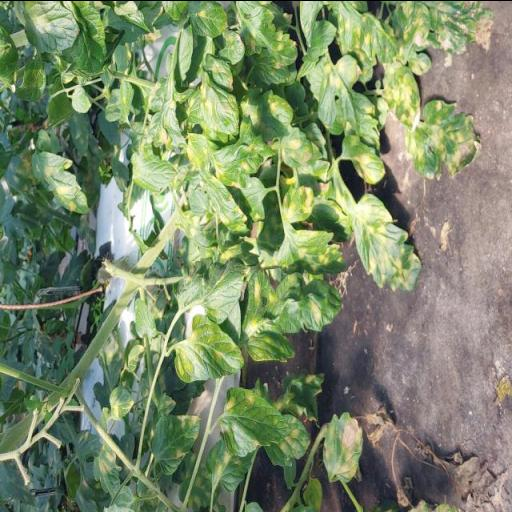Leaf Mold: (243, 266, 343, 363), (352, 191, 423, 292), (317, 53, 382, 147), (411, 98, 485, 180), (170, 258, 252, 322), (172, 312, 244, 384), (221, 384, 291, 456), (333, 0, 399, 64), (30, 148, 92, 212), (278, 228, 348, 276), (150, 412, 202, 474), (322, 406, 364, 482), (382, 58, 422, 130), (262, 411, 312, 467), (198, 70, 240, 136), (342, 134, 386, 184), (281, 125, 313, 168), (282, 182, 316, 222)
